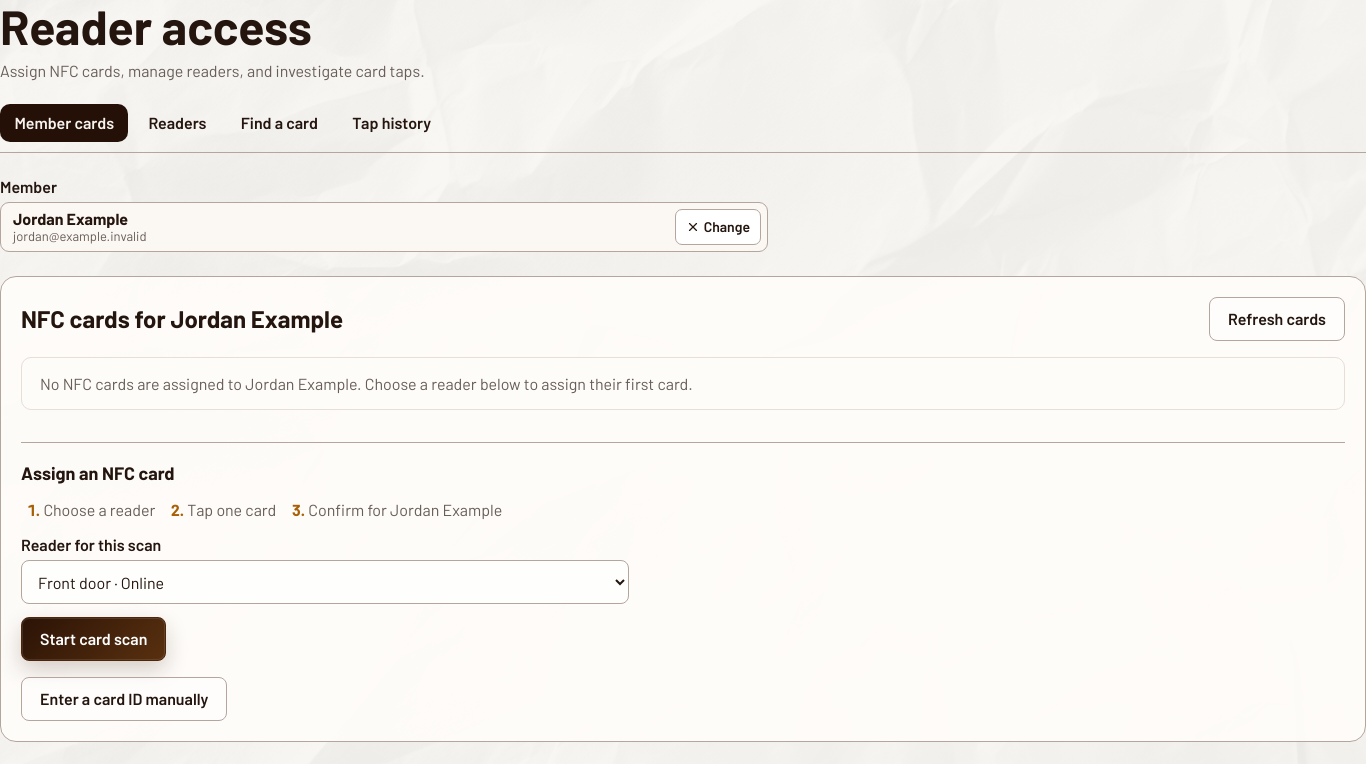
Scenario: changing member cancels a captured scan and removes confirmation controls
Click the button "Start card scan". click: {"x": 94, "y": 639}
box: [21,617,166,661]
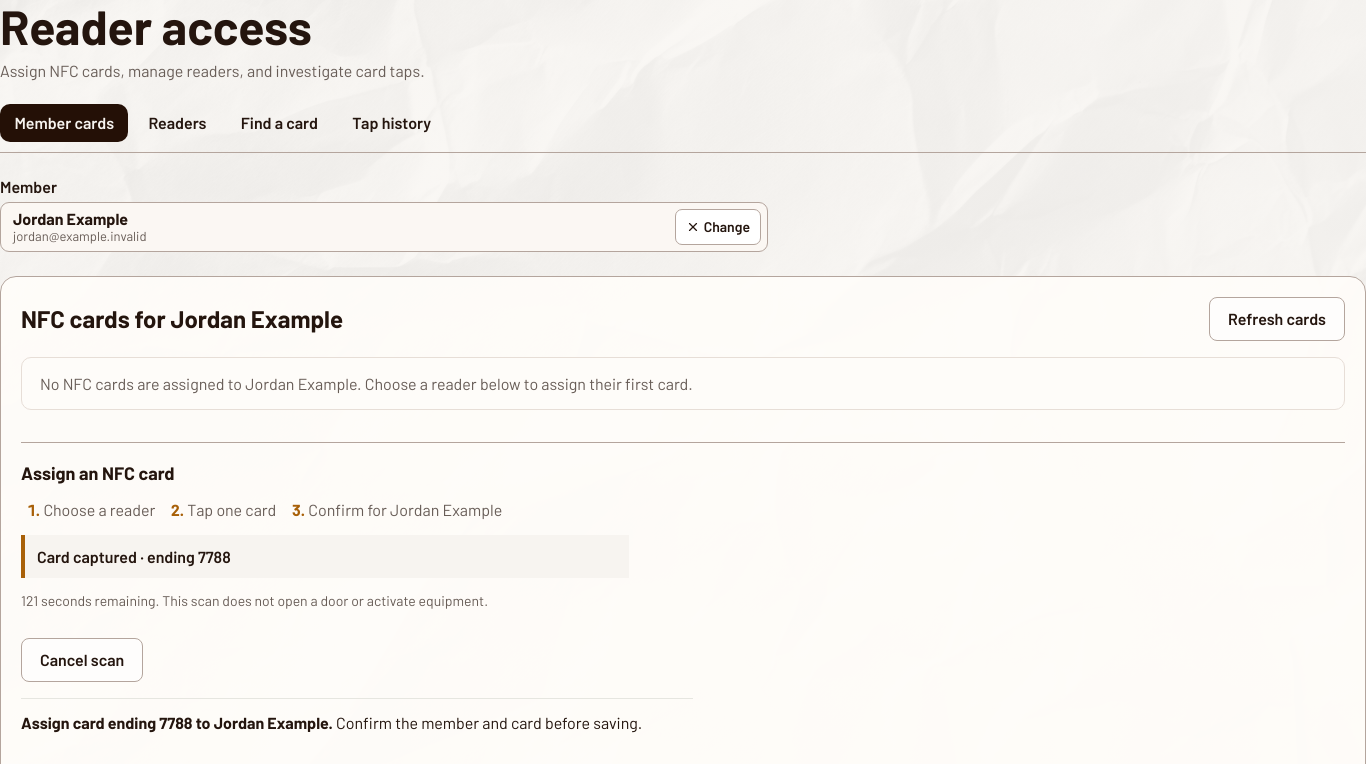
Result: the text "Card captured · ending 7788" is shown at [21,535,629,578]
Click the button with aria-label "Change member". click: {"x": 718, "y": 227}
box: [675,209,761,245]
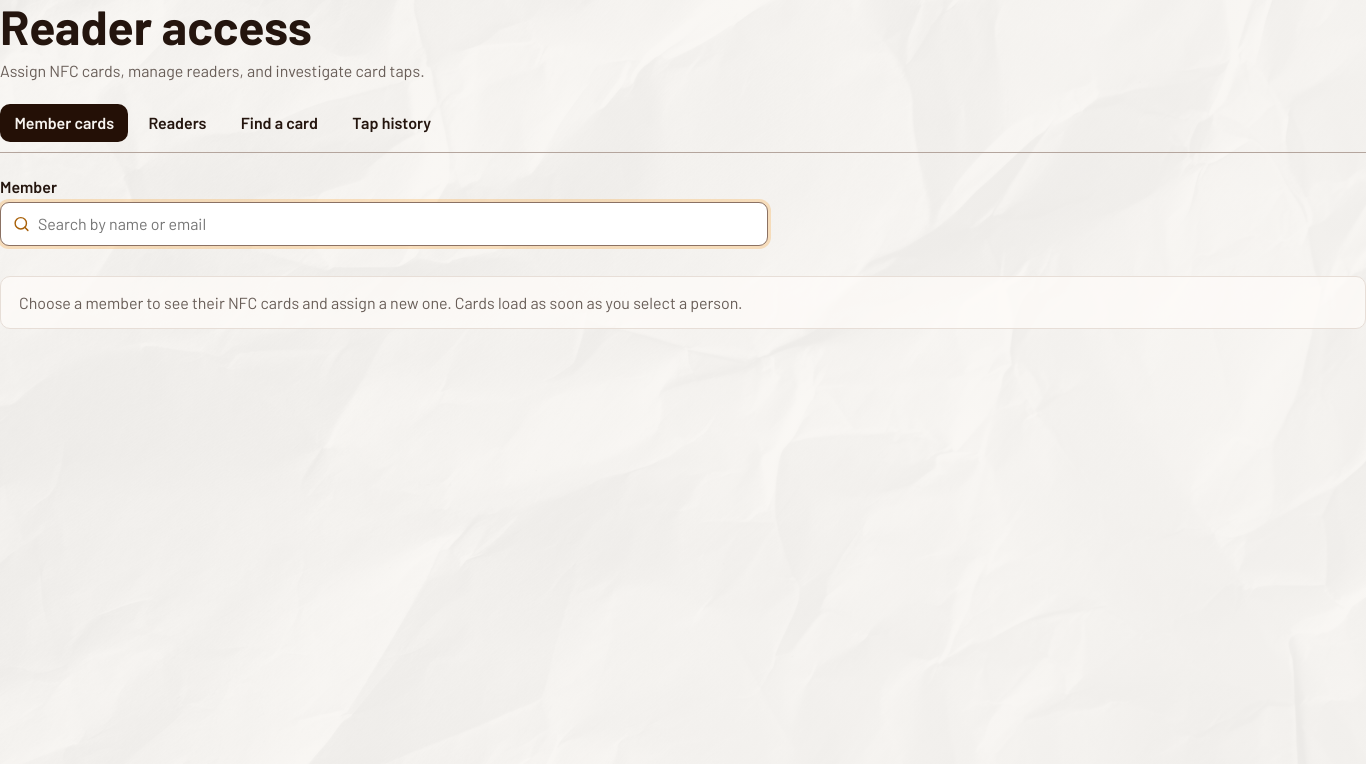
Result: the text "Assign card" is gone
